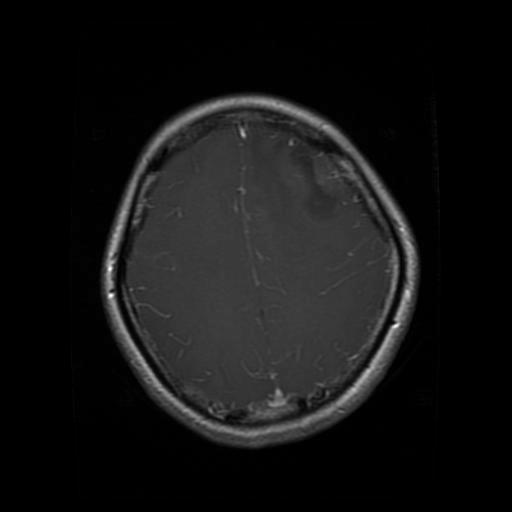Tumour-Glioma: (287, 137, 353, 210)
